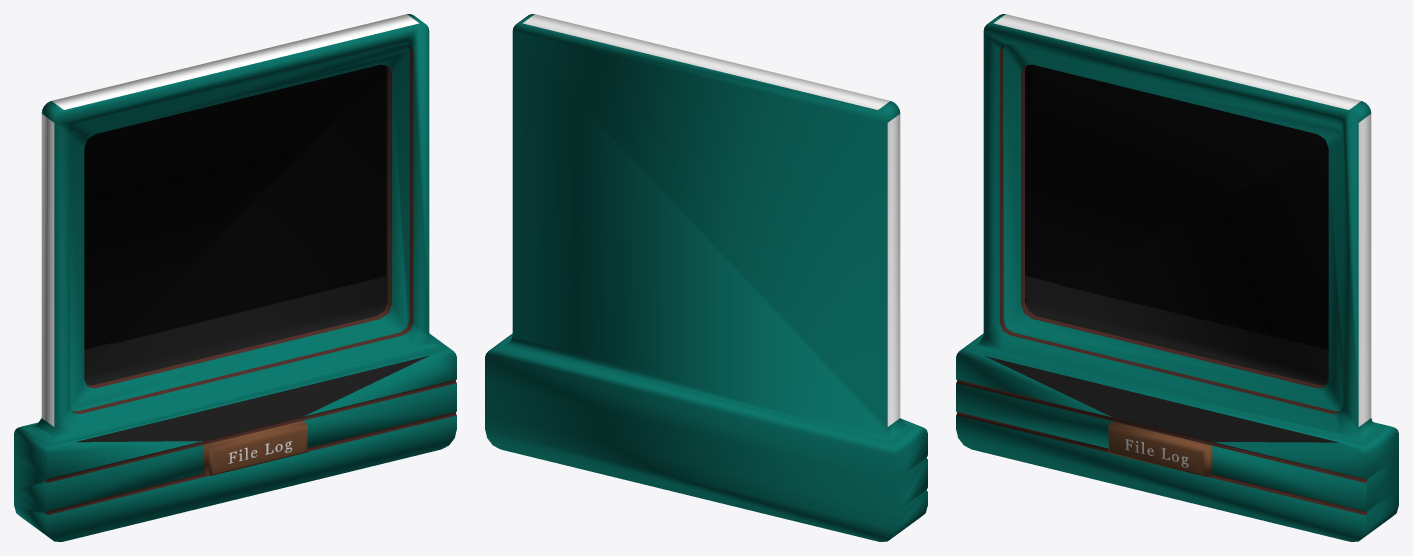
File: file log.fbx
The picture shows the model from 3 angles, left to right: view 1: azimuth 30°, elevation 25°; view 2: azimuth 150°, elevation 25°; view 3: azimuth 330°, elevation 25°; orthographic projection.
Visible parts, largest first — view 1: file log; view 2: file log; view 3: file log.
Boxes of the visible parts, bbox=[...] form: file log: bbox=[14, 14, 456, 541]; file log: bbox=[485, 14, 927, 541]; file log: bbox=[956, 14, 1398, 541].
Size of the model in its own units: 144 by 141 by 23.79.
1 material, 1 textured.
